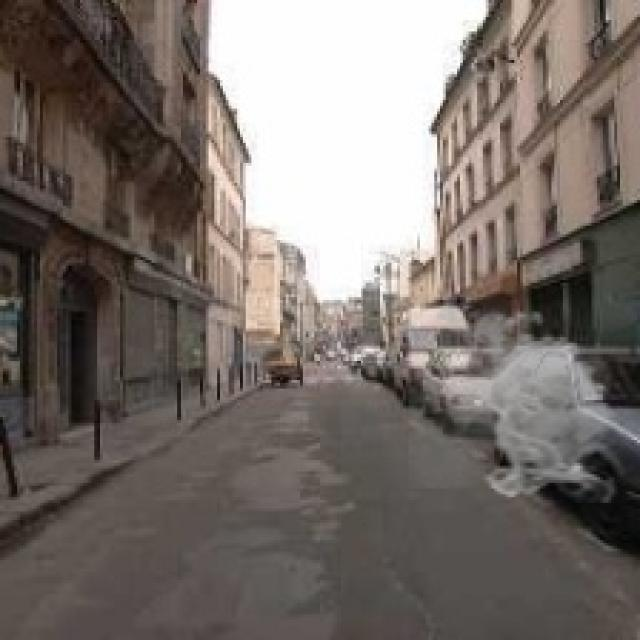Smoke: (408, 297, 623, 503)
